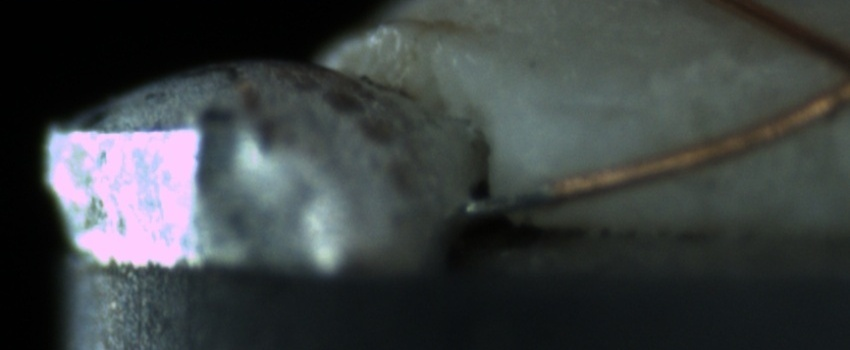CL: (806, 31, 850, 112)
DL: (532, 78, 658, 142)
TS: (457, 188, 546, 219)
TTCW: (458, 179, 563, 217)
